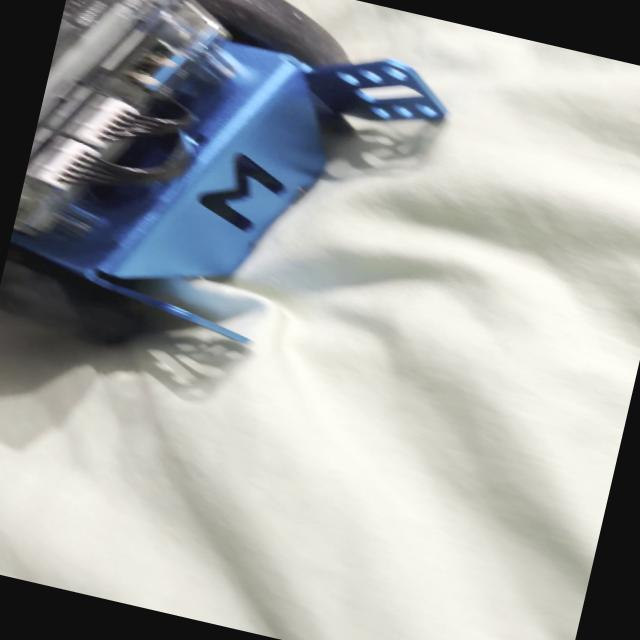mbot-detection: (0, 0, 491, 441)
